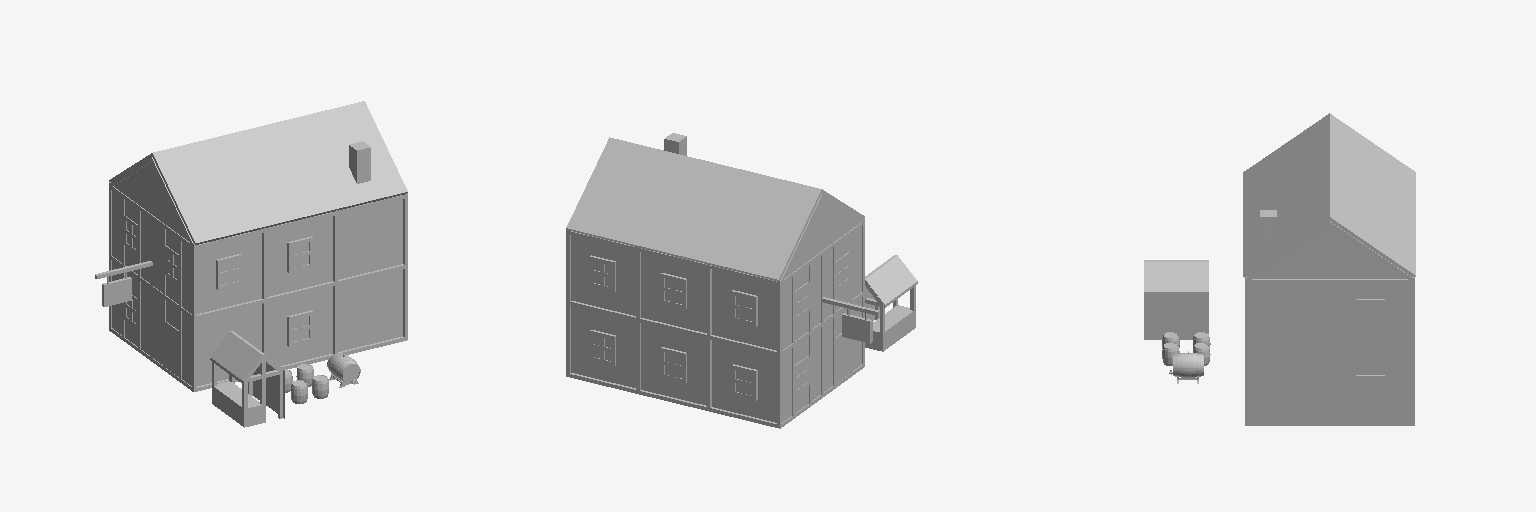
Rendered from timberframedvintner.obj.
3 views of the same model, side by side, from view 1: azimuth 30°, elevation 25°; view 2: azimuth 150°, elevation 25°; view 3: azimuth 270°, elevation 25° (orthographic).
Visible parts, largest first — view 1: Cube.005, Cube.007_Cube.011, Cube.011_Cube.015, Cube.018_Cube.016, Cube.056_Cube.081, barrel_Untitled, Cube.001_Cube.058, Cube.013_Cube.080, Cube.006_Cube.010, Cube.026_Cube.019, Cube.073_Cube.078, Cube.012_Cube.017 (+6 smaller); view 2: Cube.005, Cube.007_Cube.011, Cube.023_Cube.026, Cube.022_Cube.025, Cube.021_Cube.024, Cube.015_Cube.020, Cube.019_Cube.022, Cube.017_Cube.021, Cube.014_Cube.018, Cube.008, Cube.020_Cube.023, Cube.073_Cube.078 (+6 smaller); view 3: Cube.005, Cube.007_Cube.011, Cube.147_Cube.153, Cube.003, Cube.033, barrel_Untitled, Cube.027, Cube.047_Cube.049, Cube.031, Cube.016_Cube.013, Cube.006_Cube.010, Cube.012_Cube.017 (+5 smaller).
Boxes of the visible parts, box(x1,y1,x2,y2) form: Cube.005: box(112, 162, 402, 385); Cube.007_Cube.011: box(109, 101, 407, 244); Cube.011_Cube.015: box(195, 264, 405, 319); Cube.018_Cube.016: box(195, 195, 406, 249); Cube.056_Cube.081: box(216, 254, 242, 289); barrel_Untitled: box(327, 353, 360, 387); Cube.001_Cube.058: box(287, 310, 312, 346); Cube.013_Cube.080: box(287, 236, 312, 272); Cube.006_Cube.010: box(349, 141, 370, 183); Cube.026_Cube.019: box(192, 243, 196, 391); Cube.073_Cube.078: box(102, 277, 131, 306); Cube.012_Cube.017: box(403, 193, 407, 339); Cube.005: box(571, 199, 861, 422); Cube.007_Cube.011: box(566, 137, 864, 280); Cube.023_Cube.026: box(567, 373, 779, 427); Cube.022_Cube.025: box(567, 301, 779, 355); Cube.021_Cube.024: box(567, 231, 777, 284); Cube.015_Cube.020: box(732, 290, 757, 326); Cube.019_Cube.022: box(661, 347, 686, 383); Cube.017_Cube.021: box(590, 330, 615, 365); Cube.014_Cube.018: box(661, 273, 686, 308); Cube.008: box(590, 255, 615, 291); Cube.020_Cube.023: box(732, 364, 757, 400); Cube.073_Cube.078: box(842, 313, 872, 343); Cube.005: box(1249, 226, 1409, 421); Cube.007_Cube.011: box(1243, 113, 1415, 277); Cube.147_Cube.153: box(1144, 292, 1208, 339); Cube.003: box(1356, 380, 1384, 421); Cube.033: box(1356, 299, 1384, 329); barrel_Untitled: box(1169, 351, 1203, 383); Cube.027: box(1410, 277, 1414, 425); Cube.047_Cube.049: box(1270, 279, 1274, 423); Cube.031: box(1248, 422, 1410, 425); Cube.016_Cube.013: box(1248, 350, 1410, 353); Cube.006_Cube.010: box(1260, 210, 1276, 249); Cube.012_Cube.017: box(1245, 277, 1248, 425).
Size of the model in its own units: 15.3 by 11.25 by 13.34.